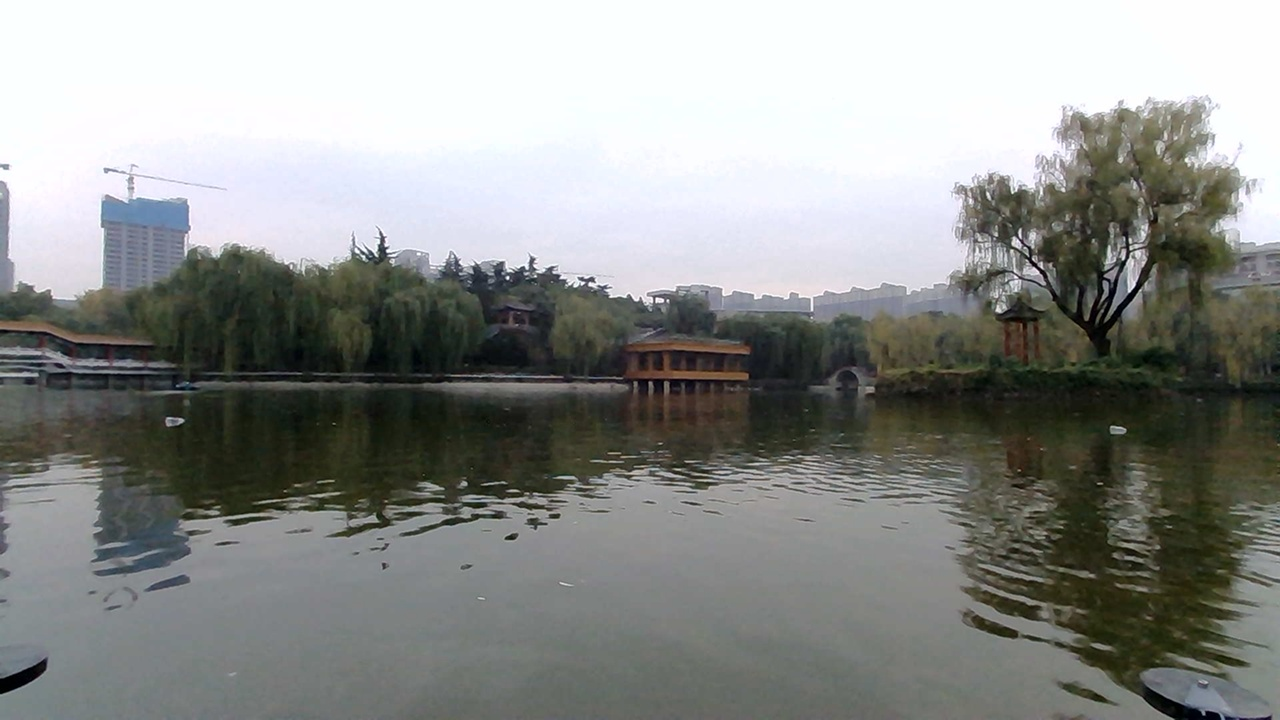bottle: (1101, 413, 1147, 447), (154, 406, 199, 430)
